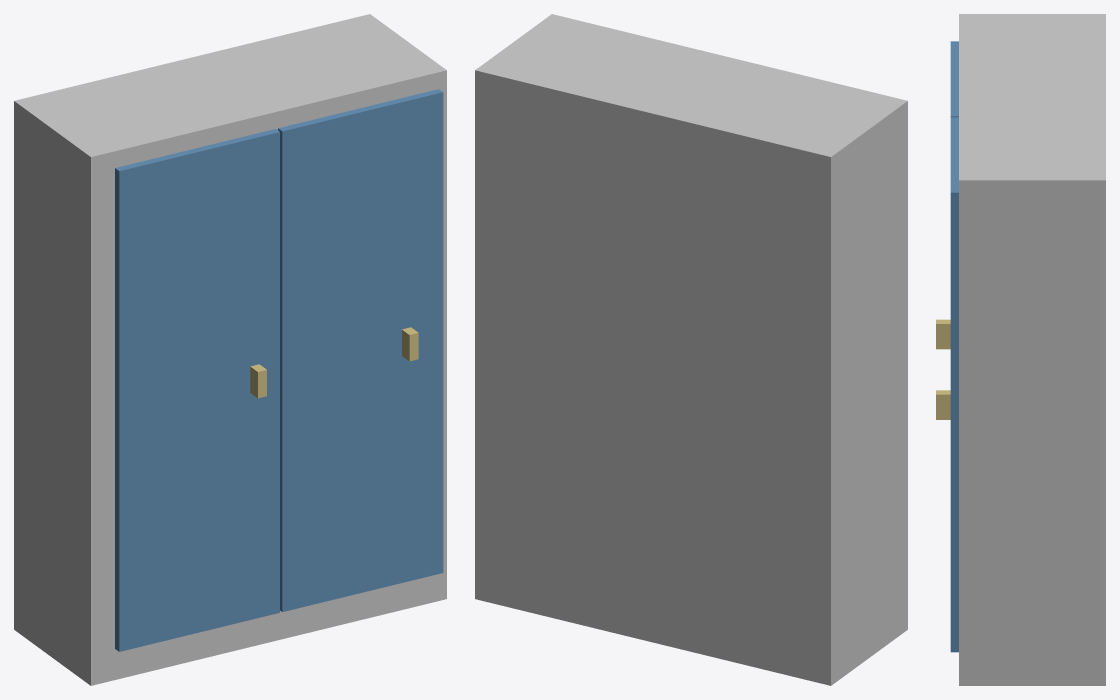
The model's file is ropero_mateo.glb.
The picture shows the model from 3 angles, left to right: view 1: azimuth 30°, elevation 25°; view 2: azimuth 150°, elevation 25°; view 3: azimuth 270°, elevation 25°; orthographic projection. The views are drawn at different scales.
Parts seen in each view (by area): view 1: ropero_mateo_00, ropero_mateo_01, ropero_mateo_02; view 2: ropero_mateo_00; view 3: ropero_mateo_00, ropero_mateo_02, ropero_mateo_01, ropero_mateo_03, ropero_mateo_04.
Boxes of the visible parts, bbox=[...] form: ropero_mateo_00: bbox=[14, 14, 446, 685]; ropero_mateo_01: bbox=[115, 129, 279, 651]; ropero_mateo_02: bbox=[278, 89, 443, 611]; ropero_mateo_00: bbox=[475, 14, 907, 685]; ropero_mateo_00: bbox=[959, 14, 1105, 685]; ropero_mateo_02: bbox=[950, 117, 958, 652]; ropero_mateo_01: bbox=[950, 41, 958, 117]; ropero_mateo_03: bbox=[936, 319, 950, 349]; ropero_mateo_04: bbox=[936, 390, 950, 419].
Bounding box in the file's own units: 1.55 × 2.2 × 0.67.
